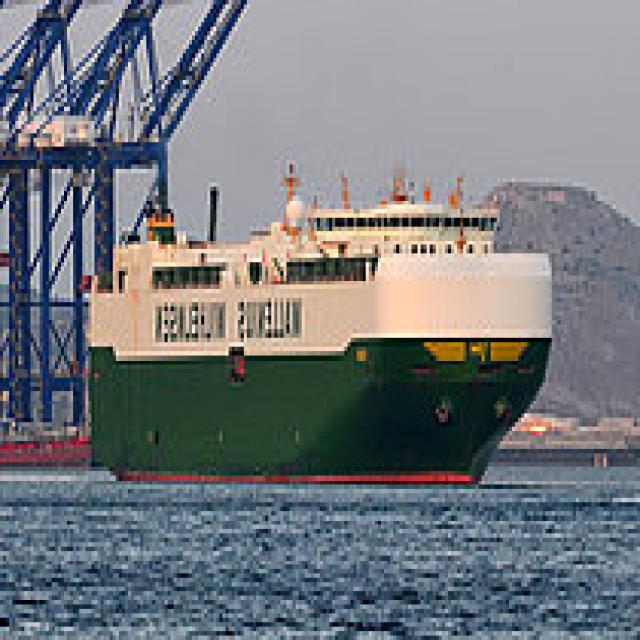Carrier: (88, 186, 561, 484)
